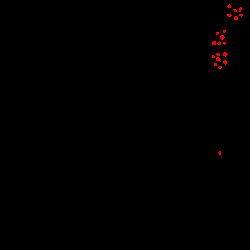Target: (220, 35, 225, 40), (223, 52, 228, 57), (216, 57, 221, 61), (223, 60, 227, 65), (227, 4, 231, 8), (234, 16, 238, 20), (212, 41, 216, 45), (217, 41, 221, 45), (239, 7, 242, 12), (227, 14, 232, 17), (233, 9, 237, 12), (239, 14, 243, 17), (216, 53, 220, 56), (218, 66, 222, 69), (218, 151, 221, 155), (223, 30, 226, 33), (216, 32, 219, 35), (223, 42, 226, 45), (212, 55, 215, 58), (214, 63, 217, 66)
